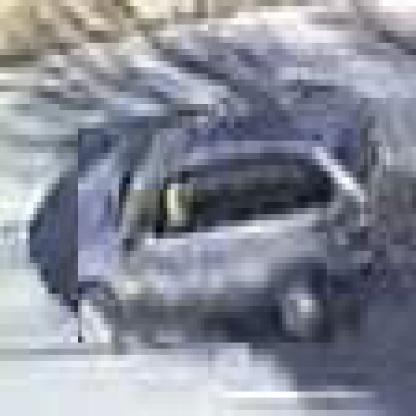car: (79, 130, 372, 350)
